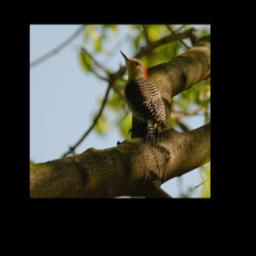Woodpecker: (119, 50, 166, 146)
